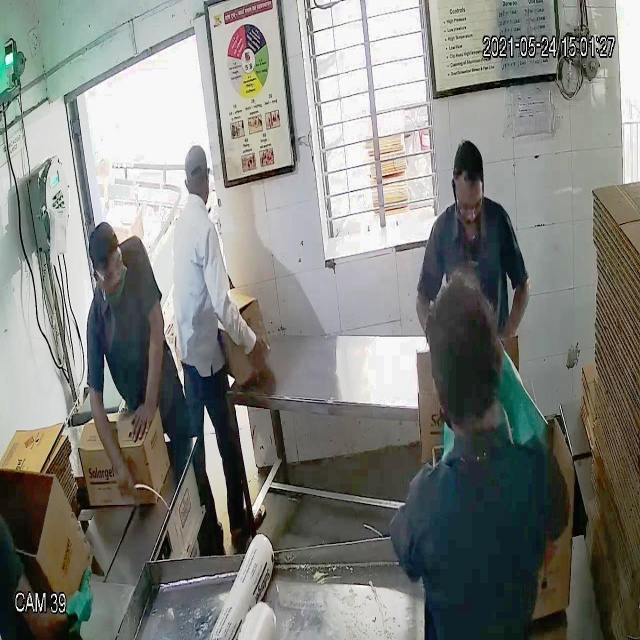Gafas: (89, 248, 128, 291)
